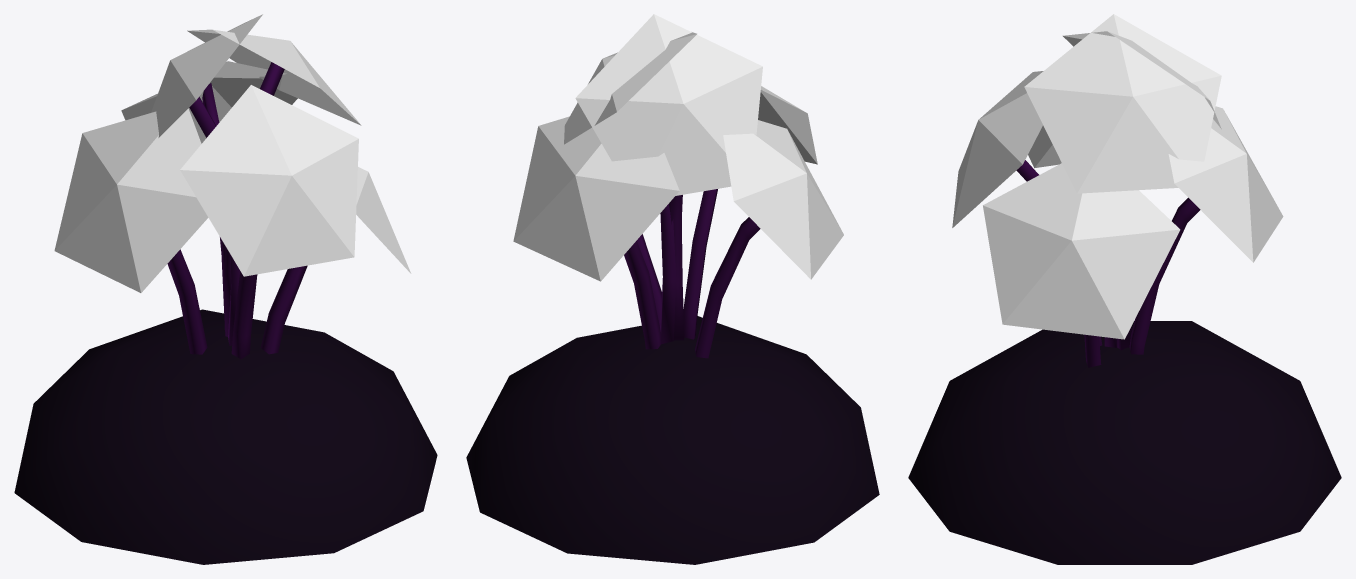
Rendered from Bush6 - Copy.fbx.
3 renders of one model, left to right at view 1: azimuth 30°, elevation 25°; view 2: azimuth 150°, elevation 25°; view 3: azimuth 270°, elevation 25°, orthographic. The views are drawn at different scales.
Visible parts, largest first — view 1: Icosphere.005, Cube.003; view 2: Icosphere.005, Cube.003; view 3: Icosphere.005, Cube.003.
Boxes of the visible parts, <box> form: Icosphere.005: <box>14,309,437,564</box>; Cube.003: <box>54,14,411,359</box>; Icosphere.005: <box>466,316,879,564</box>; Cube.003: <box>513,14,843,358</box>; Icosphere.005: <box>908,321,1341,564</box>; Cube.003: <box>952,14,1283,367</box>.
Bounding box in the file's own units: 1.9 × 2.34 × 2.
